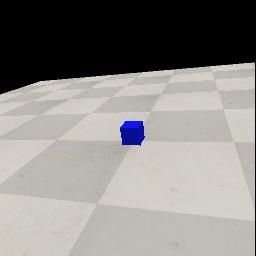box: (120, 121, 145, 146)
